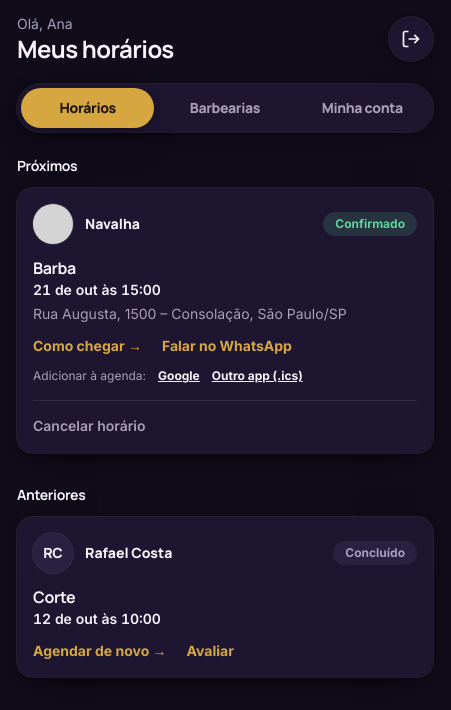
Test case: client area 2.0 › cancels an upcoming appointment after asking, and shows it cancelled
Check: the heading "Barba" is shown, box [33,257,76,279]
Click the button "Cancelar horário". click: (89, 426)
box: [33,416,146,436]
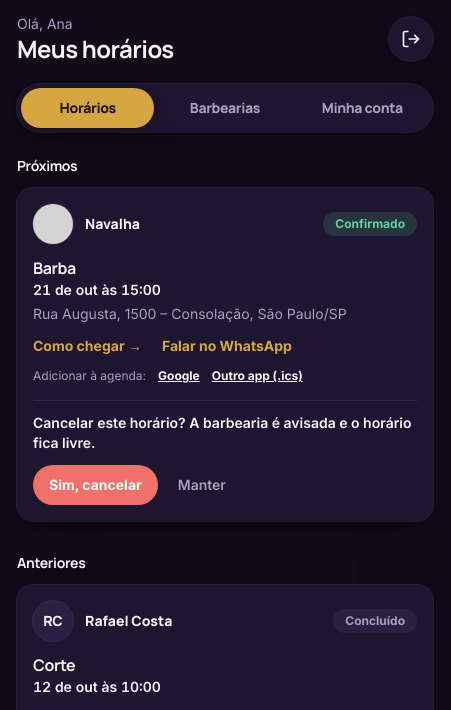
Click the button "Sim, cancelar". click: (95, 485)
box: [33,465,158,505]
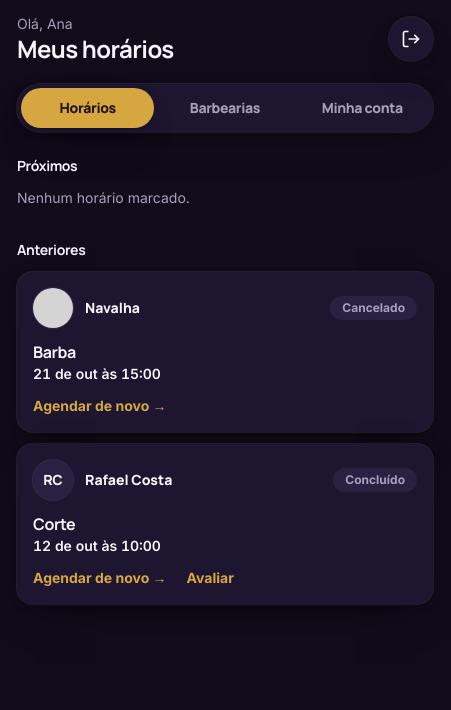
Check: the text "Cancelado" is shown, box [330,296,417,320]
Check: the text "Nenhum horário marcado." is shown, box [17,189,190,206]
